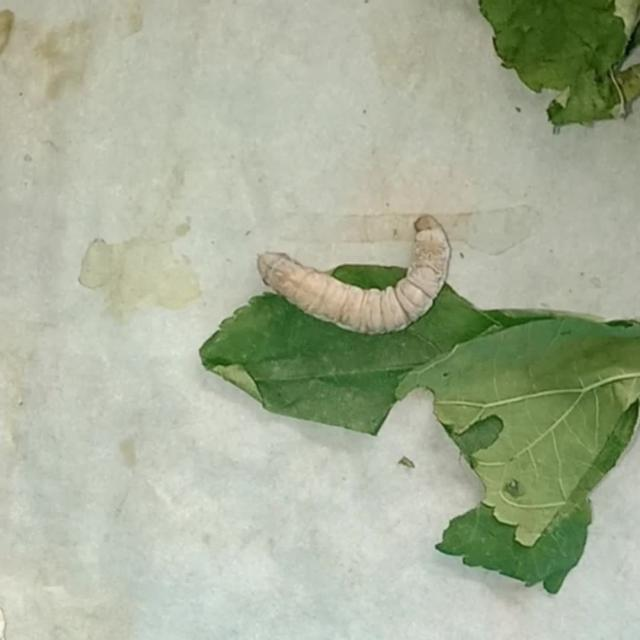Grasserie: (247, 199, 461, 351)
